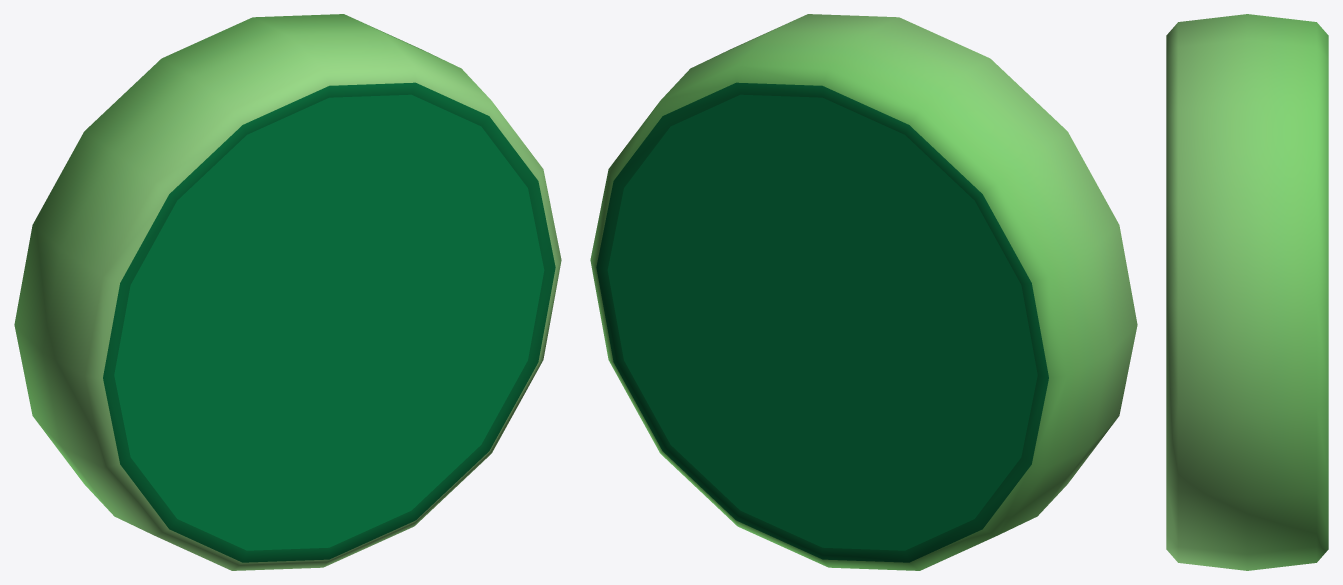
Rendered from Radish_slice.fbx.
3 views of the same model, side by side, from view 1: azimuth 30°, elevation 25°; view 2: azimuth 150°, elevation 25°; view 3: azimuth 270°, elevation 25° (orthographic).
Parts seen in each view (by area): view 1: Radish_slice; view 2: Radish_slice; view 3: Radish_slice.
Part boxes in pixels (left/top/right/bottom): Radish_slice: left=14, top=14, right=561, bottom=570; Radish_slice: left=590, top=14, right=1137, bottom=570; Radish_slice: left=1166, top=14, right=1328, bottom=570.
Size of the model in its own units: 32.6 by 9.5 by 32.6.
